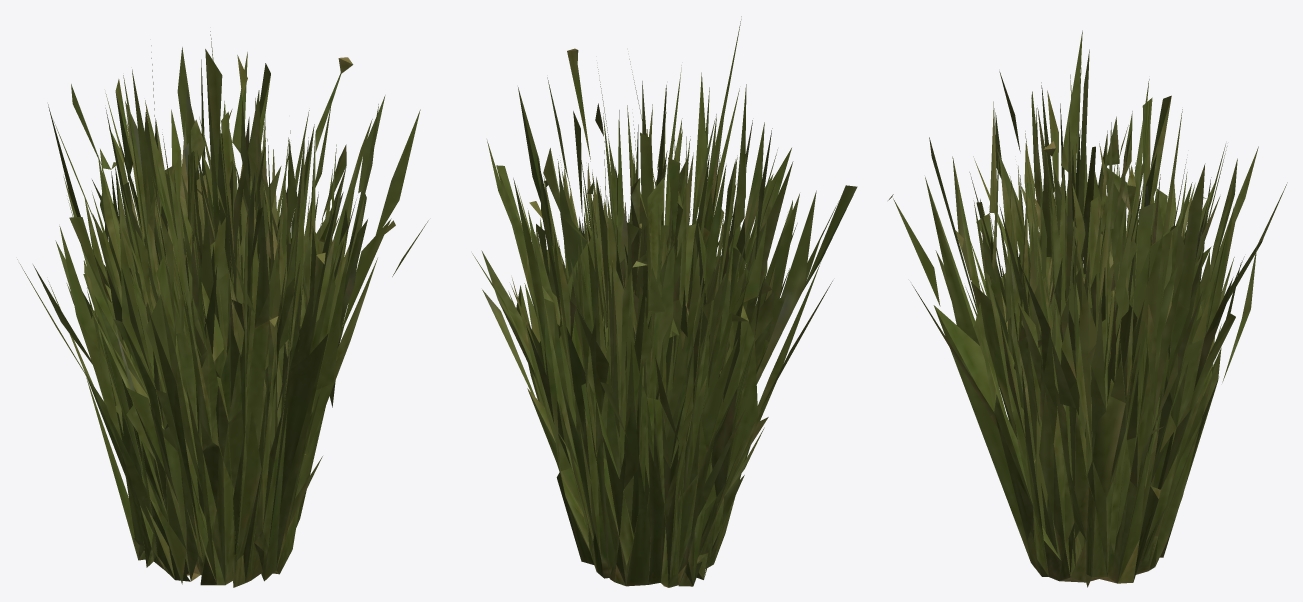
File: junco_recoger_alto.glb
The picture shows the model from 3 angles, left to right: view 1: azimuth 30°, elevation 25°; view 2: azimuth 150°, elevation 25°; view 3: azimuth 270°, elevation 25°; orthographic projection. The views are drawn at different scales.
Visible parts, largest first — view 1: alto; view 2: alto; view 3: alto.
Boxes of the visible parts, x1,y1,x2,y2 form: alto: [17, 31, 428, 587]; alto: [472, 16, 857, 587]; alto: [888, 30, 1287, 587].
Bounding box in the file's own units: 0.958 × 1.3 × 0.9062.
1 material, 1 textured.
